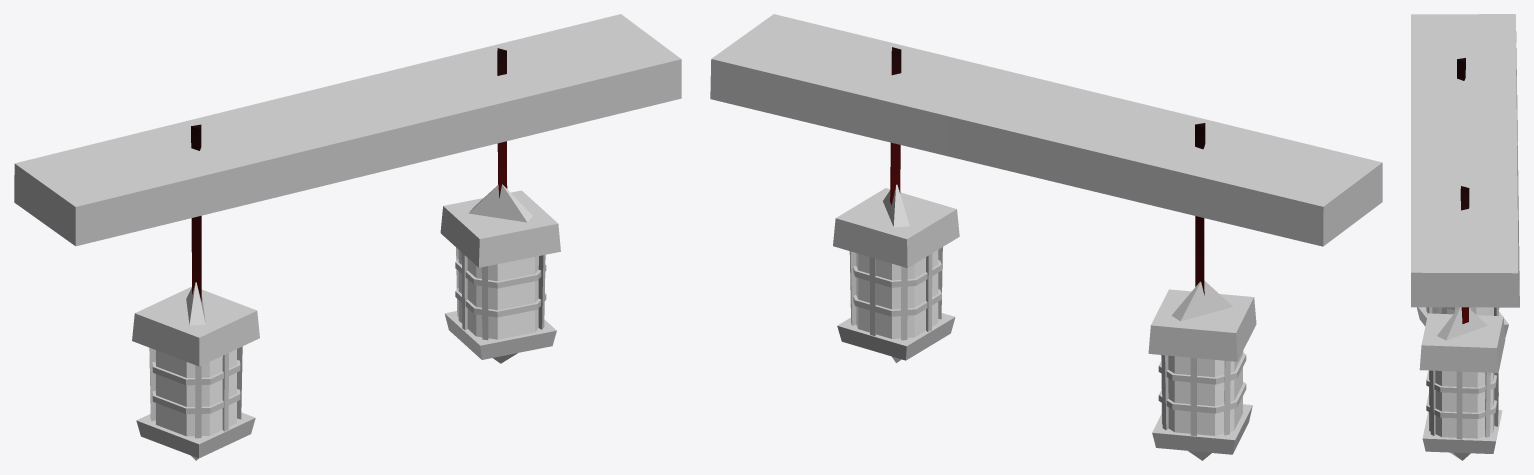
The model's file is TEM_Lamp_01A.fbx.
3 renders of one model, left to right at view 1: azimuth 30°, elevation 25°; view 2: azimuth 150°, elevation 25°; view 3: azimuth 270°, elevation 25°, orthographic. The views are drawn at different scales.
Visible parts, largest first — view 1: TEM_Lamp_01A_LOD2; view 2: TEM_Lamp_01A_LOD2; view 3: TEM_Lamp_01A_LOD2.
Part boxes in pixels (x1,y1,x2,y2): TEM_Lamp_01A_LOD2: [14, 14, 681, 460]; TEM_Lamp_01A_LOD2: [710, 14, 1382, 460]; TEM_Lamp_01A_LOD2: [1411, 14, 1519, 460].
Bounding box in the file's own units: 200 × 105 × 35.42.
